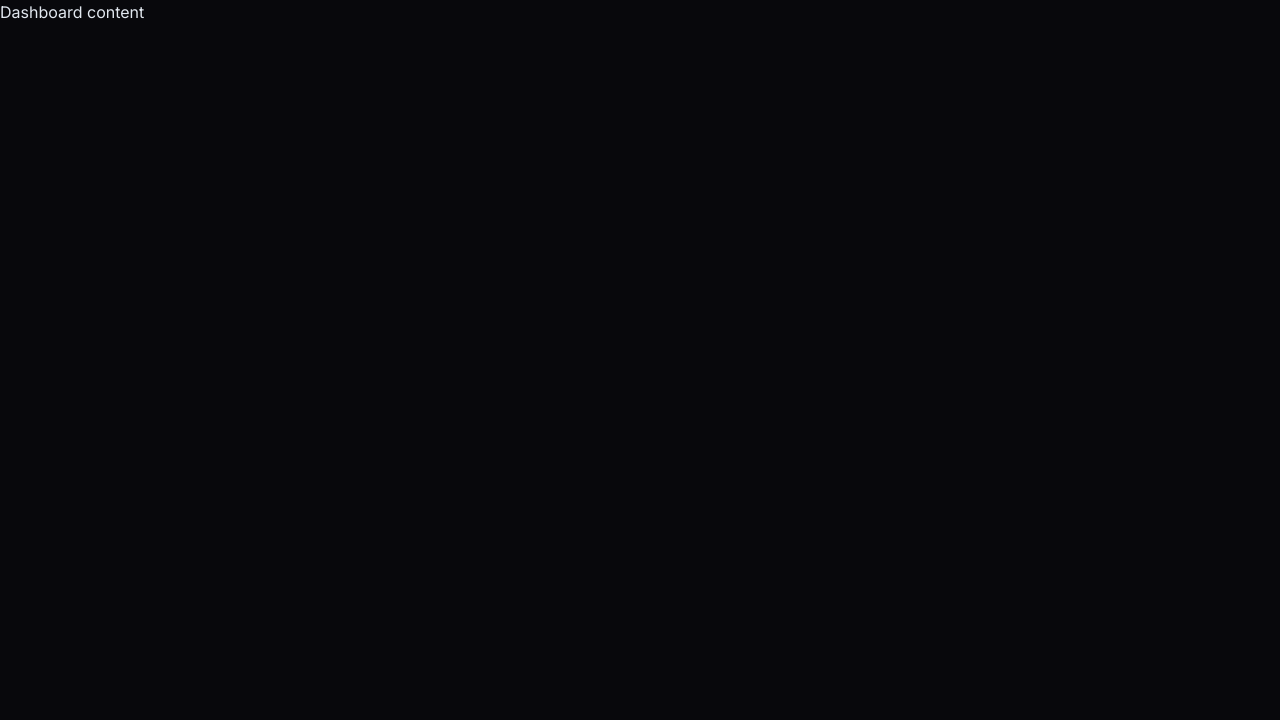
Test: CommandPalette › shows "No matches" for a query that hits nothing
Step 1. Type keys "{Control>}k{/Control}"
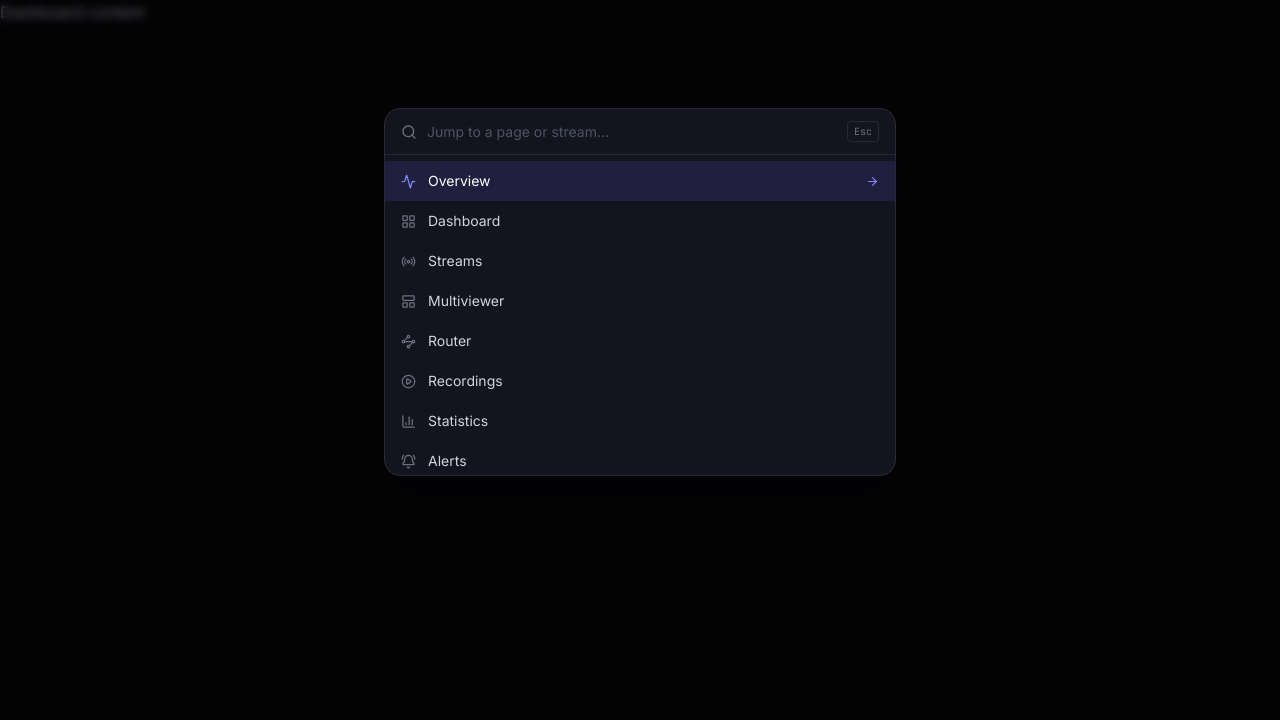
Step 2. Type "zzzznotarealthing" into the field named "Search pages and streams" → (632, 132), box [427,122,837,142]
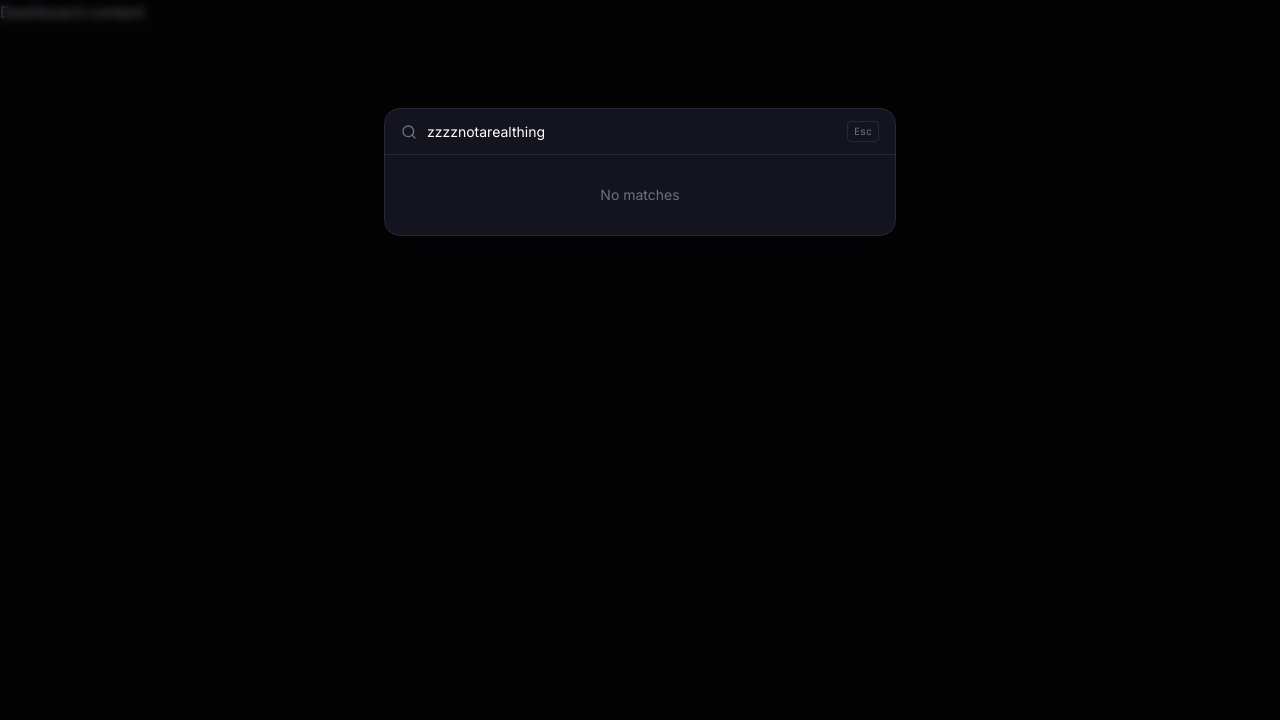
Check: the text "No matches" is shown, box [600,186,680,203]
